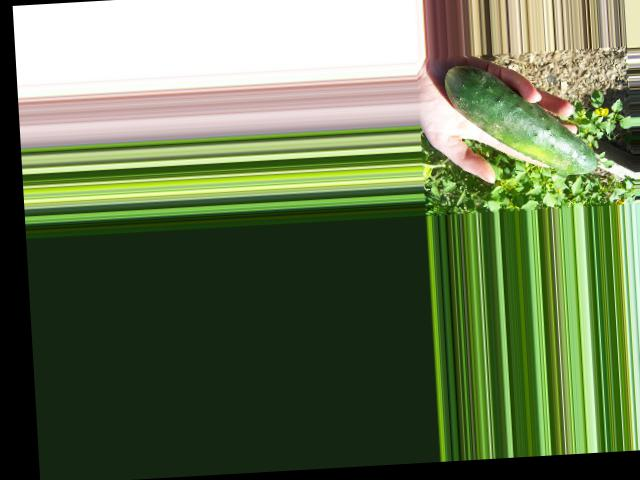cucumber: (445, 58, 599, 181)
